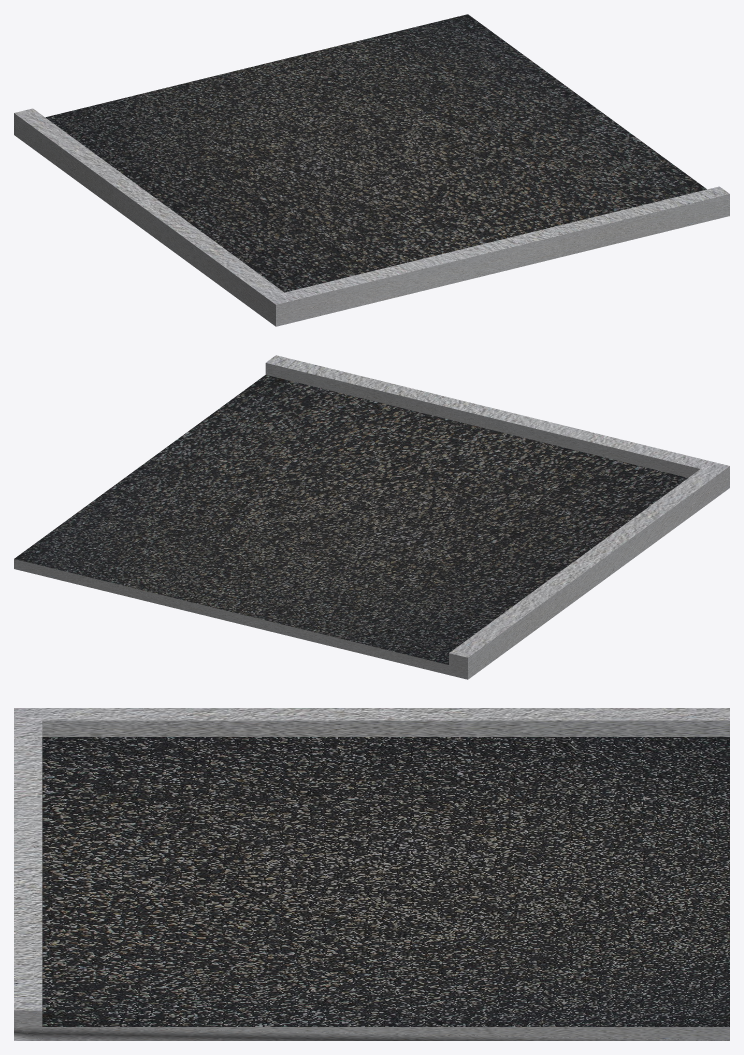
File: calle_asfalto_esquina.obj
3 views of the same model, one above another, from view 1: azimuth 30°, elevation 25°; view 2: azimuth 150°, elevation 25°; view 3: azimuth 270°, elevation 25° (orthographic). The views are drawn at different scales.
Parts seen in each view (by area): view 1: carretera1; view 2: carretera1; view 3: carretera1.
Boxes of the visible parts, box(x1,y1,x2,y2) form: carretera1: box(14, 14, 729, 326); carretera1: box(14, 355, 729, 679); carretera1: box(14, 708, 729, 1040).
Size of the model in its own units: 189 by 8.74 by 189.
Materials: 2 (2 with a texture image).
